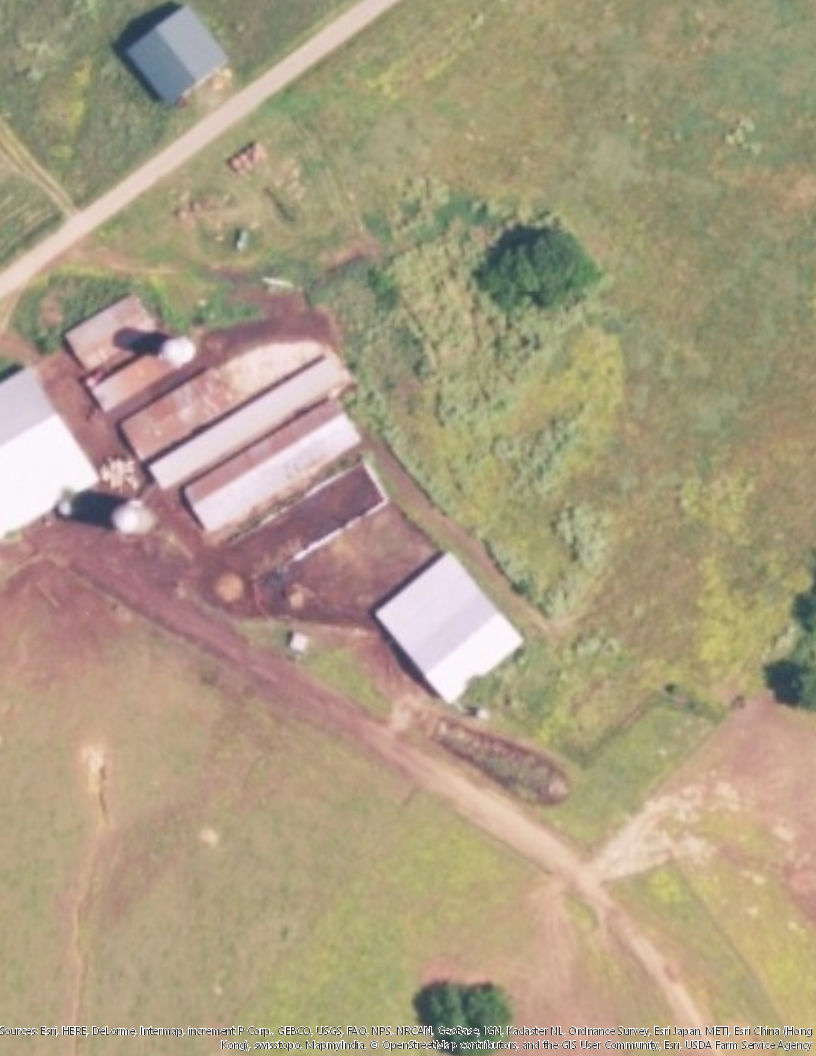cafo: (120, 320, 363, 495), (365, 541, 532, 711), (184, 402, 369, 543), (1, 361, 107, 545), (89, 327, 204, 418), (59, 284, 161, 375)
